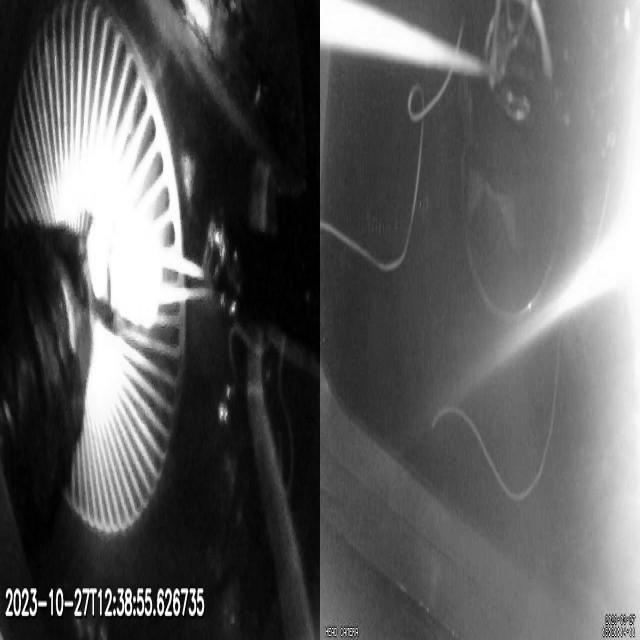head: (88, 205, 162, 327)
